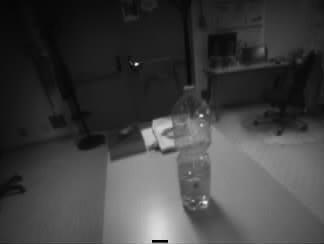Bottle: (175, 85, 211, 210)
